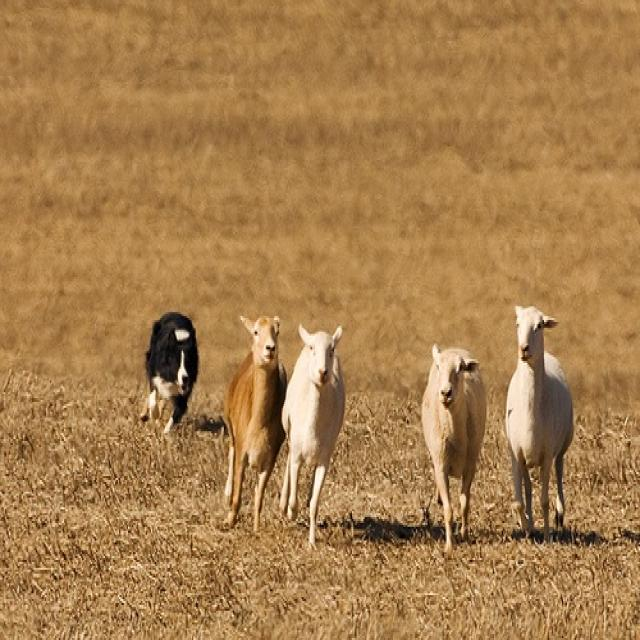dog: (143, 312, 200, 435)
sheep: (503, 306, 575, 536), (280, 324, 347, 544), (221, 314, 287, 537), (421, 343, 487, 552)
